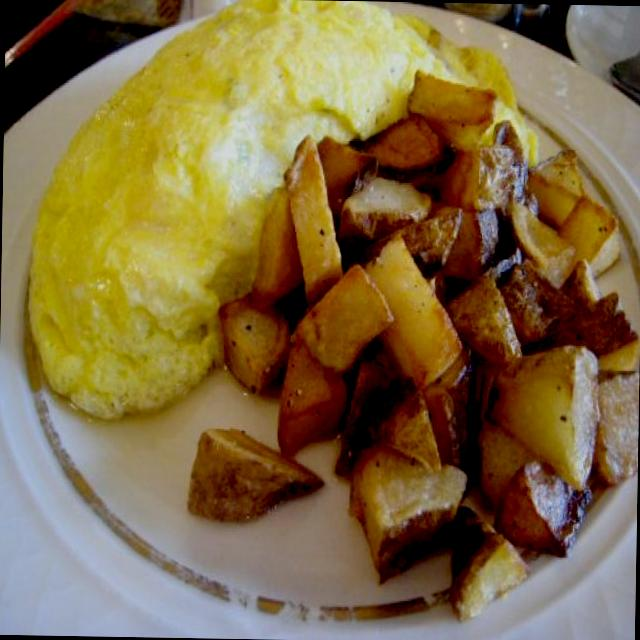Omelet: (21, 5, 398, 412)
